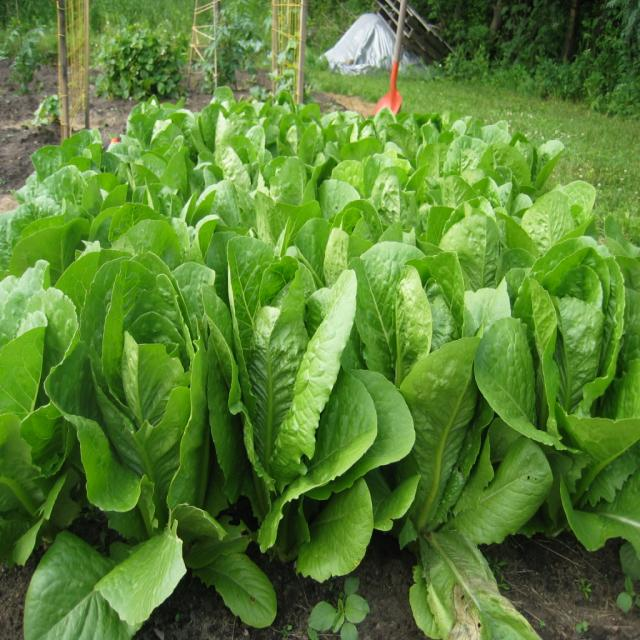Lettuce head: (54, 257, 218, 559), (223, 247, 393, 499), (469, 229, 640, 462), (324, 129, 432, 239)
